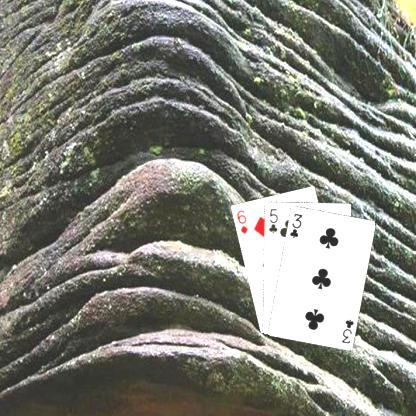3C: (287, 210, 304, 239), (339, 316, 355, 345)
5C: (266, 206, 279, 233)
6D: (234, 207, 249, 235)
